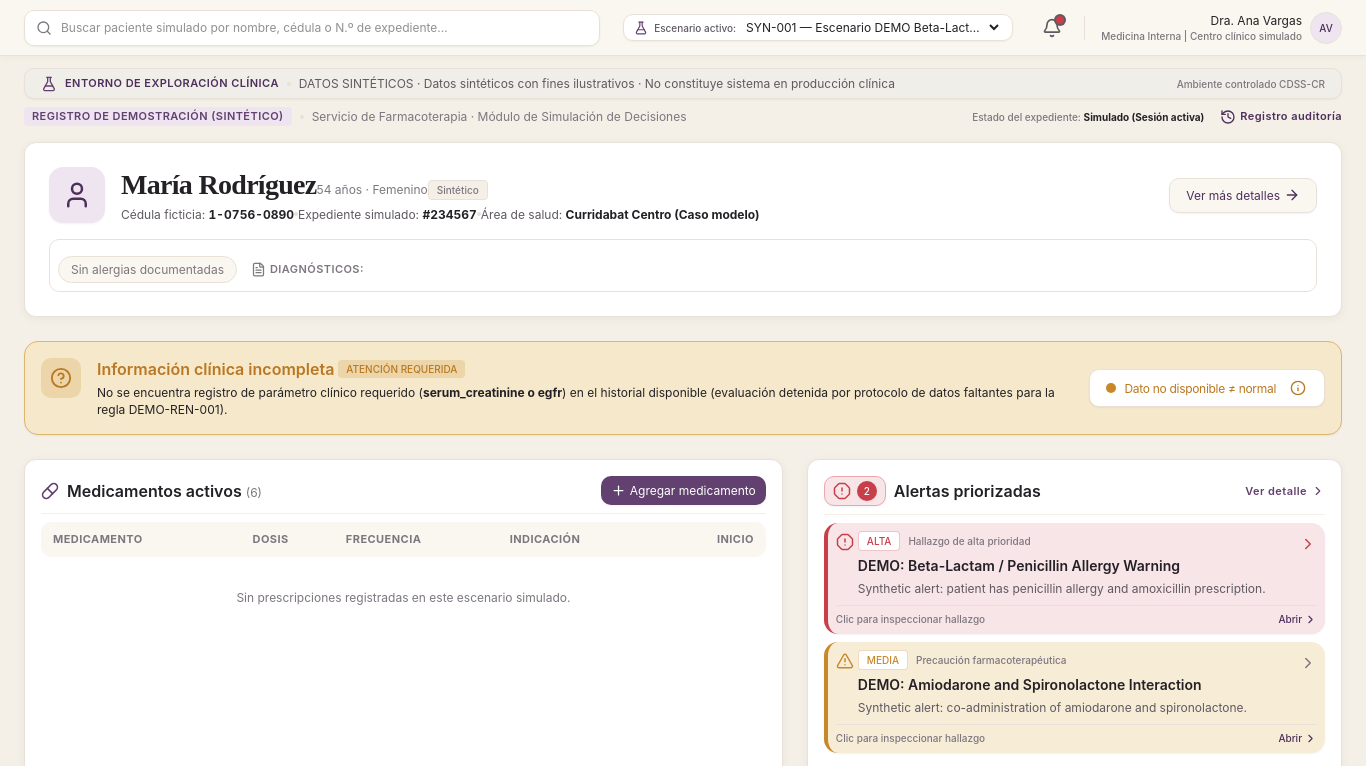
Test: Dashboard Visual Baseline — 1:1 Stitch Converged › Data state › opens the alert detail inspector by clicking a prioritized alert card as secondary affordance
Click the button with aria-label "seleccionar alerta".
click(1074, 578)  # box [824,523,1325,634]
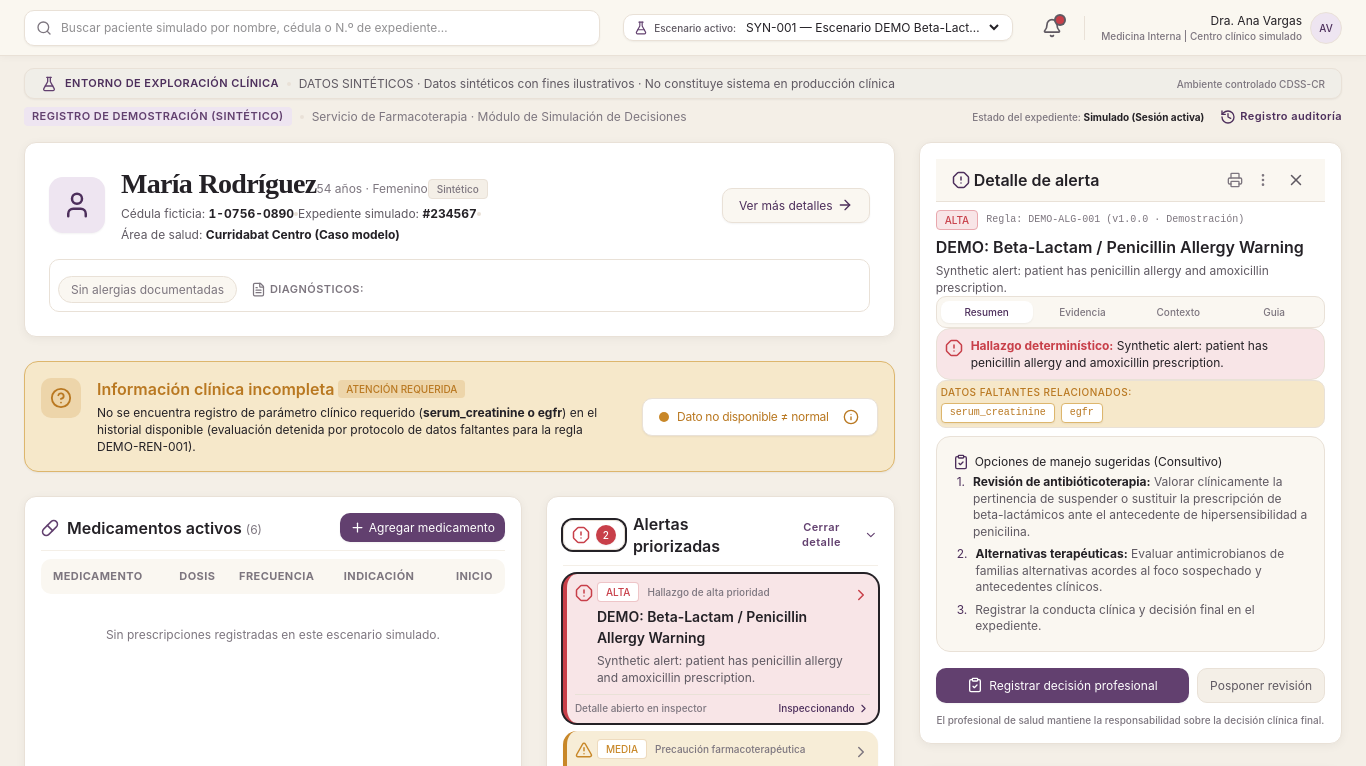
Result: the element named "detalle de alerta clínica" is shown at [919,142,1342,744]
